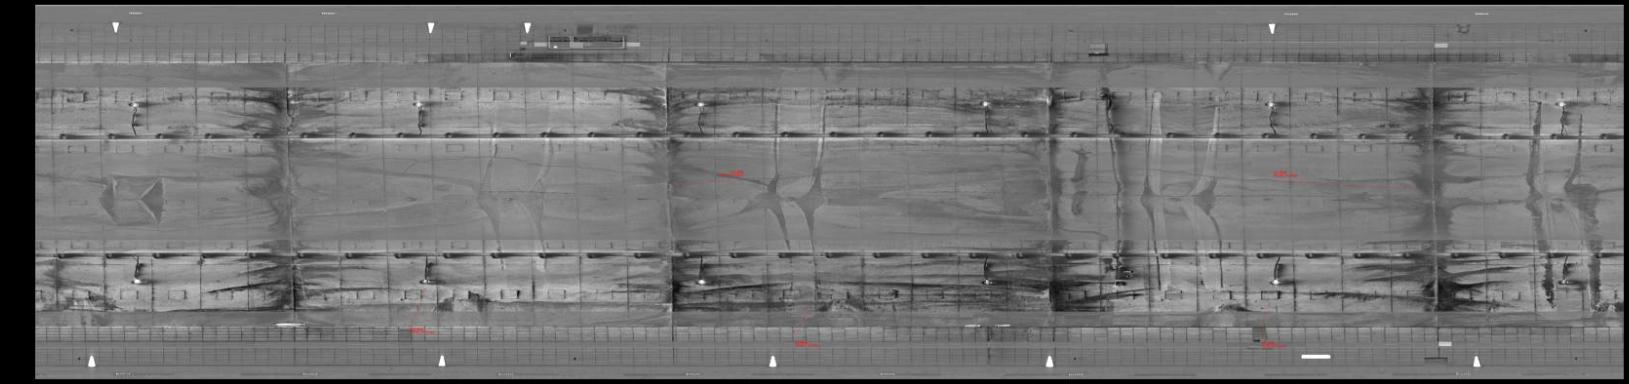light: (1258, 98, 1283, 112), (125, 274, 146, 290), (415, 274, 437, 289), (123, 95, 145, 109), (688, 98, 712, 109), (1266, 274, 1286, 287), (1551, 97, 1571, 110), (691, 275, 710, 289), (1555, 274, 1574, 287), (410, 98, 432, 109), (974, 99, 994, 110), (974, 277, 996, 286)
